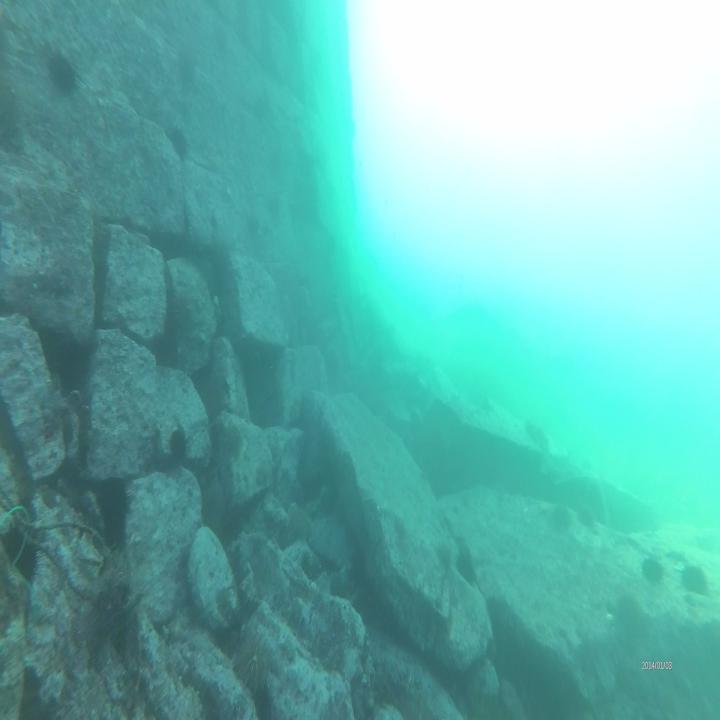echinus: (44, 43, 80, 96), (681, 559, 715, 601), (641, 548, 667, 591)
